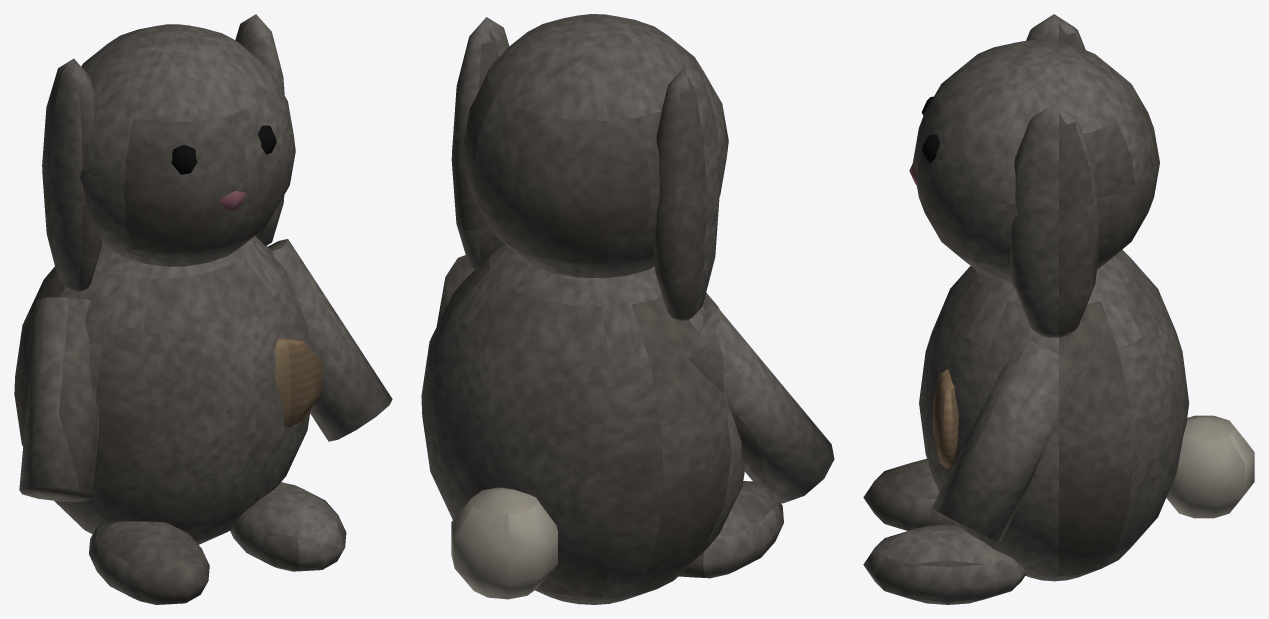
Rendered from T19_plush_rabbit.glb.
The picture shows the model from 3 angles, left to right: view 1: azimuth 30°, elevation 25°; view 2: azimuth 150°, elevation 25°; view 3: azimuth 270°, elevation 25°; orthographic projection. The views are drawn at different scales.
Visible parts, largest first — view 1: T19_plush_rabbit; view 2: T19_plush_rabbit; view 3: T19_plush_rabbit.
Boxes of the visible parts, x1,y1,x2,y2 form: T19_plush_rabbit: (14, 14, 392, 604); T19_plush_rabbit: (421, 14, 834, 604); T19_plush_rabbit: (863, 14, 1254, 604).
Bounding box in the file's own units: 0.2963 × 0.4 × 0.2739.
5 materials, 5 textured.
